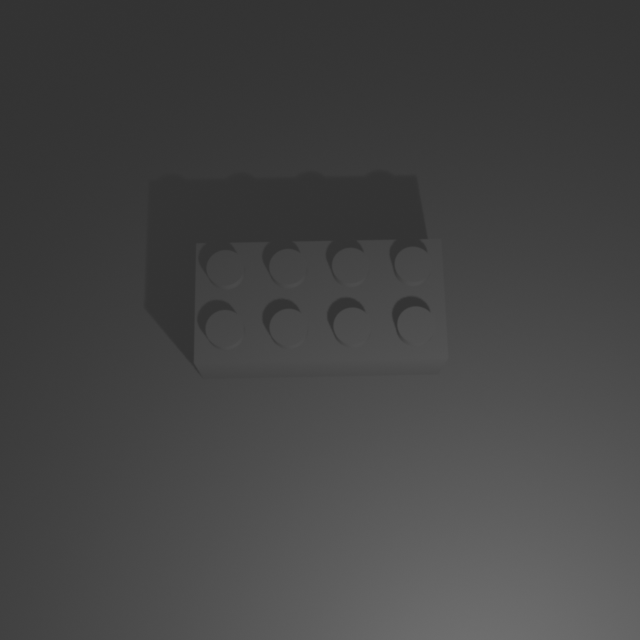lego_2x4: (192, 234, 450, 379)
